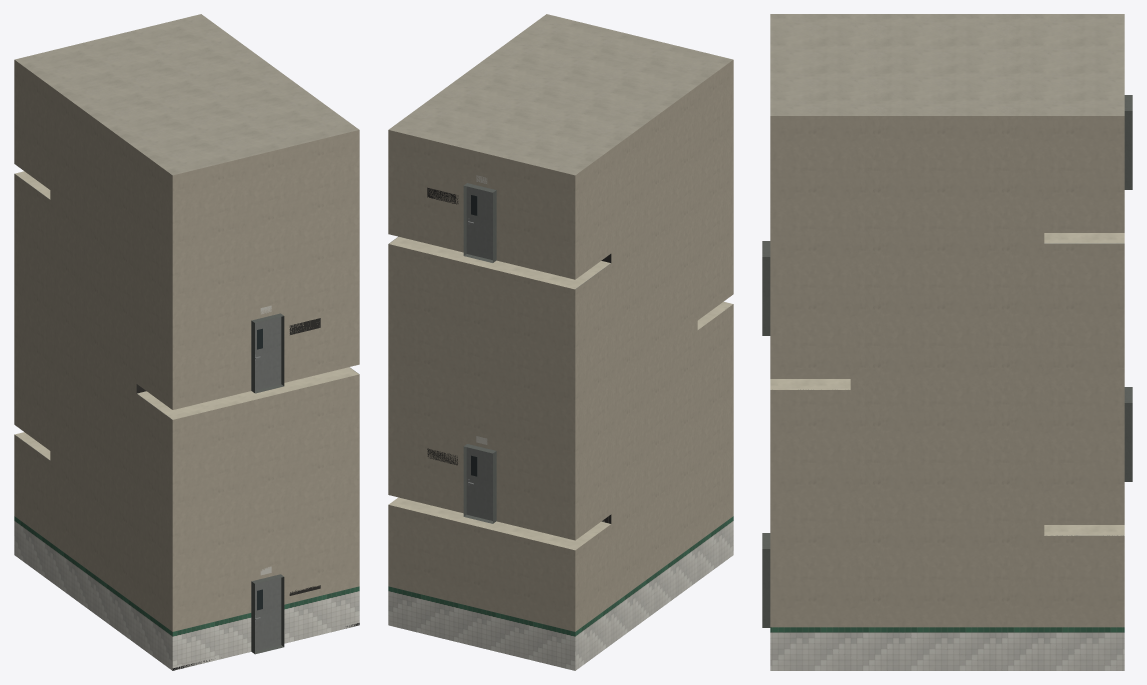
The model's file is escalators.glb.
3 renders of one model, left to right at view 1: azimuth 30°, elevation 25°; view 2: azimuth 150°, elevation 25°; view 3: azimuth 270°, elevation 25°, orthographic. The views are drawn at different scales.
Visible parts, largest first — view 1: Wall_Hall.001, Ceiling_Hall.001, Wall_Tile.001, Soffit_Plaster.001, DoorLeaf_atrium_L0, DoorLeaf_atrium_L8, Door_Jamb.001; view 2: Wall_Hall.001, Ceiling_Hall.001, Wall_Tile.001, Soffit_Plaster.001, DoorLeaf_atrium_L12, DoorLeaf_atrium_L4, Door_Jamb.001, Fascia_Paint_props; view 3: Wall_Hall.001, Ceiling_Hall.001, Wall_Tile.001, Door_Jamb.001, Soffit_Plaster.001.
Boxes of the visible parts, bbox=[...] form: Wall_Hall.001: bbox=[14, 60, 359, 631]; Ceiling_Hall.001: bbox=[15, 14, 359, 175]; Wall_Tile.001: bbox=[14, 516, 359, 670]; Soffit_Plaster.001: bbox=[14, 171, 358, 459]; DoorLeaf_atrium_L0: bbox=[255, 577, 281, 651]; DoorLeaf_atrium_L8: bbox=[255, 317, 281, 390]; Door_Jamb.001: bbox=[251, 313, 284, 654]; Wall_Hall.001: bbox=[388, 60, 733, 631]; Ceiling_Hall.001: bbox=[388, 14, 732, 175]; Wall_Tile.001: bbox=[388, 516, 733, 670]; Soffit_Plaster.001: bbox=[388, 237, 732, 550]; DoorLeaf_atrium_L12: bbox=[466, 186, 492, 260]; DoorLeaf_atrium_L4: bbox=[466, 447, 492, 520]; Door_Jamb.001: bbox=[463, 183, 496, 523]; Fascia_Paint_props: bbox=[427, 187, 458, 465]; Wall_Hall.001: bbox=[770, 116, 1124, 627]; Ceiling_Hall.001: bbox=[770, 14, 1124, 115]; Wall_Tile.001: bbox=[770, 627, 1124, 670]; Door_Jamb.001: bbox=[762, 95, 1132, 627]; Soffit_Plaster.001: bbox=[770, 233, 1124, 535].
Size of the model in its own units: 6 by 15.33 by 9.2.
32 materials, 21 textured.
